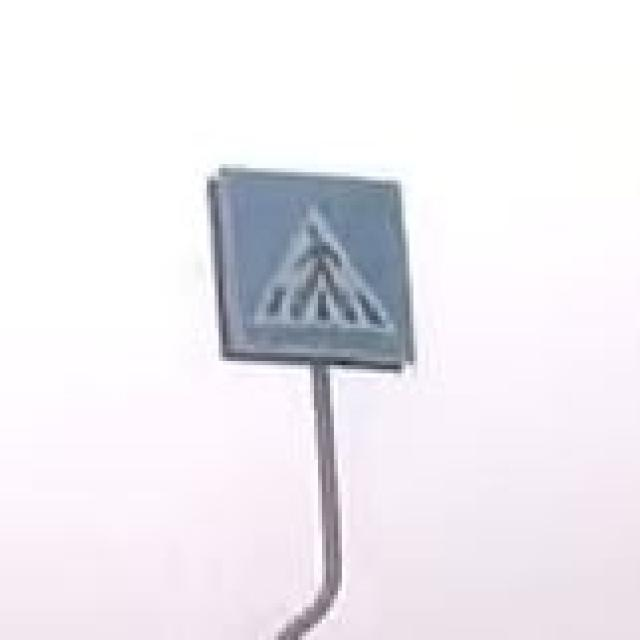Pedestrian crosswalk: (206, 162, 426, 372)
